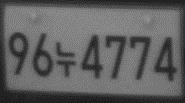4: (79, 34, 103, 80), (155, 36, 177, 82)
6: (32, 32, 53, 77)
7: (104, 34, 127, 80), (129, 34, 151, 81)
9: (8, 32, 29, 76)
누: (54, 41, 77, 79)
